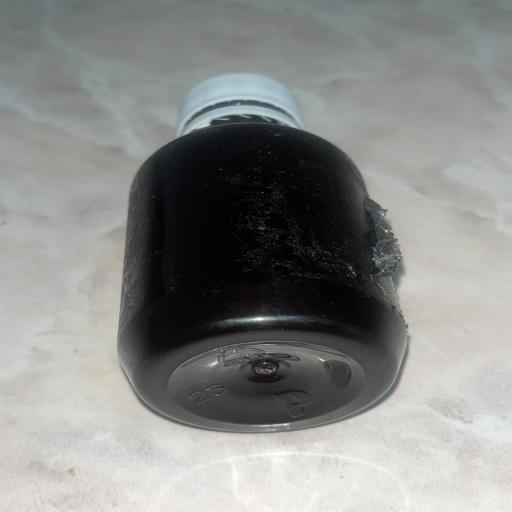HDPE: (101, 47, 454, 481)
